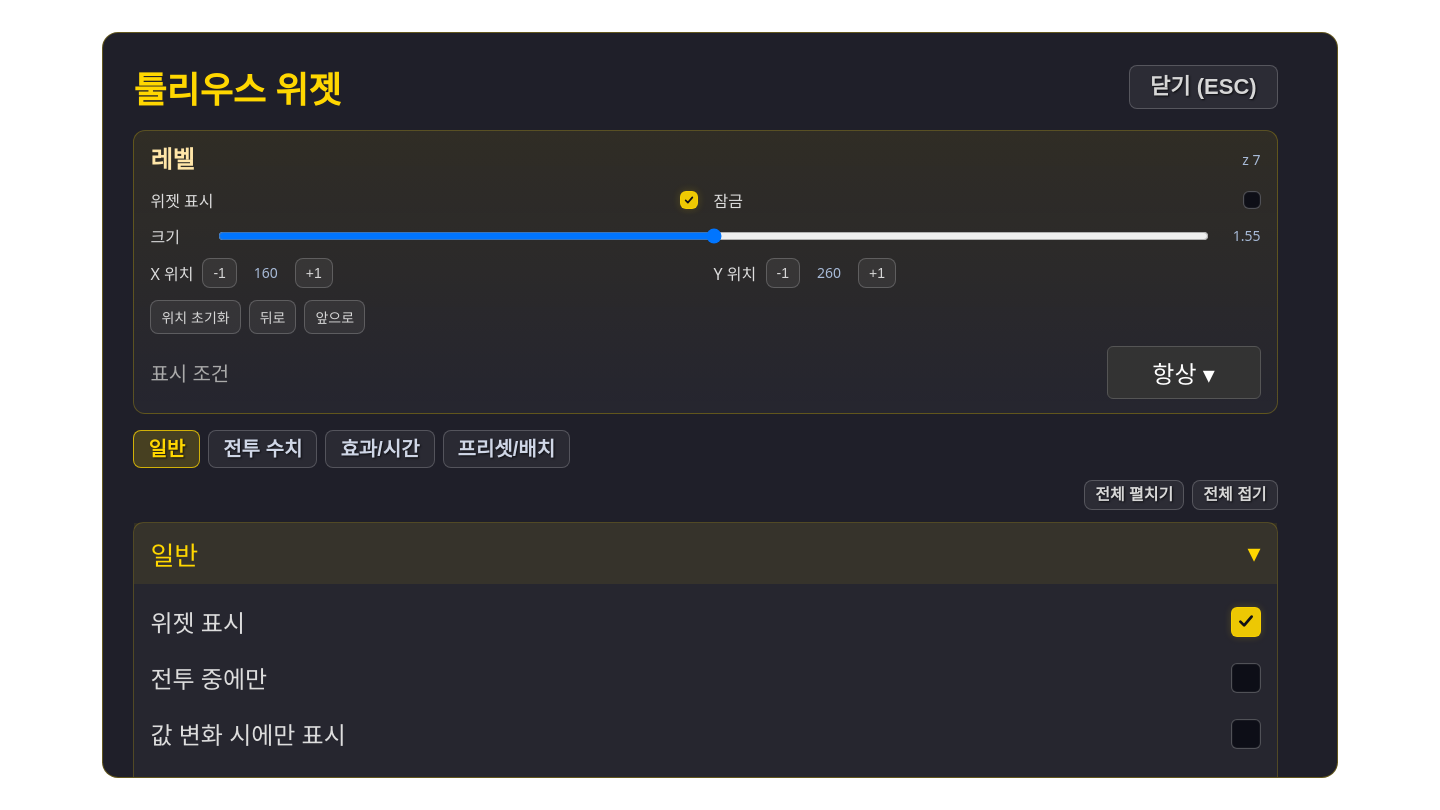
Test case: SettingsPanel › uses the selected item layout prop for live quick-edit values and wires size/lock callbacks
Set the slider labelled "크기 1.55" to "1.7": (799, 236) x1=218 y1=228 x2=1209 y2=244
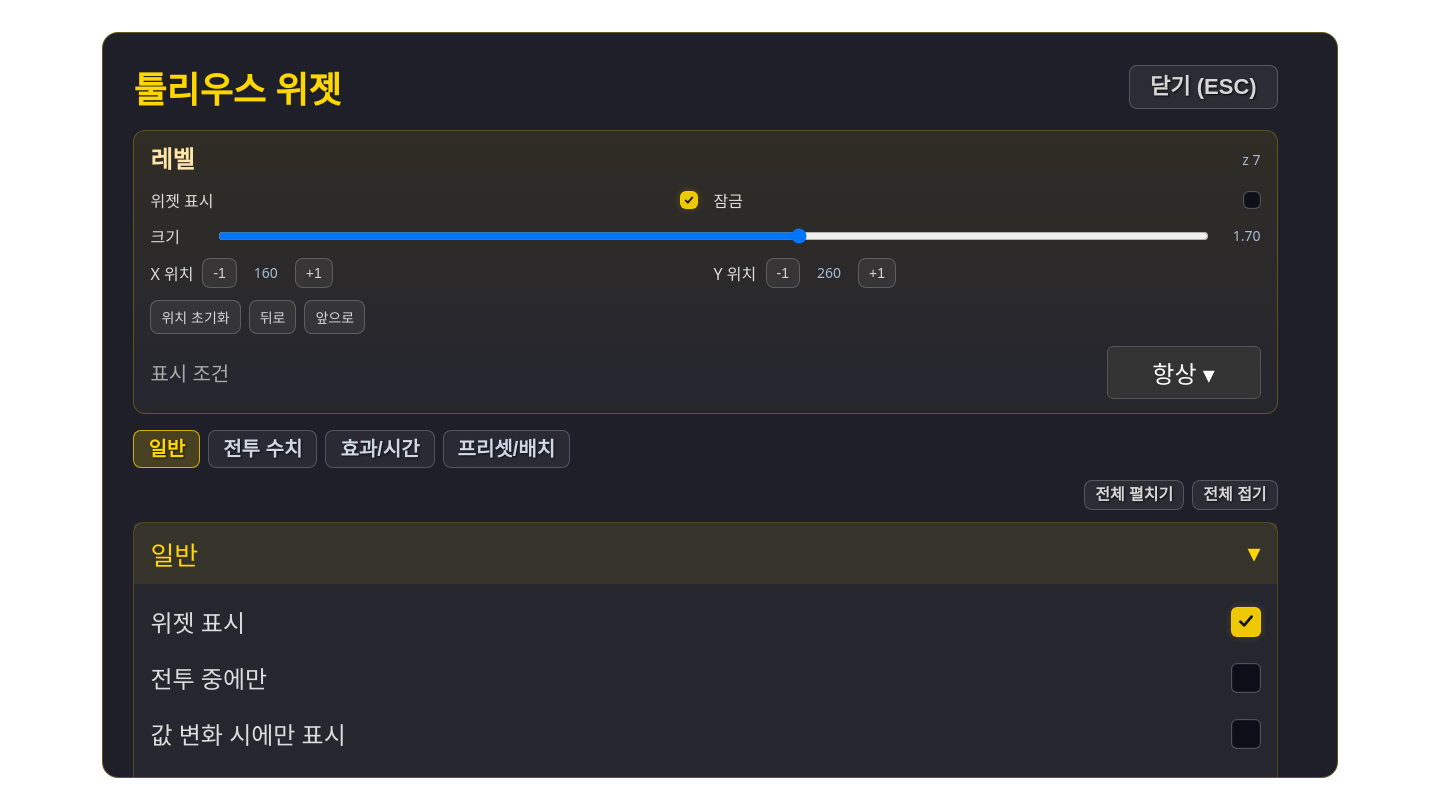
Click the checkbox labelled "잠금": (1252, 200) x1=1243 y1=190 x2=1261 y2=208
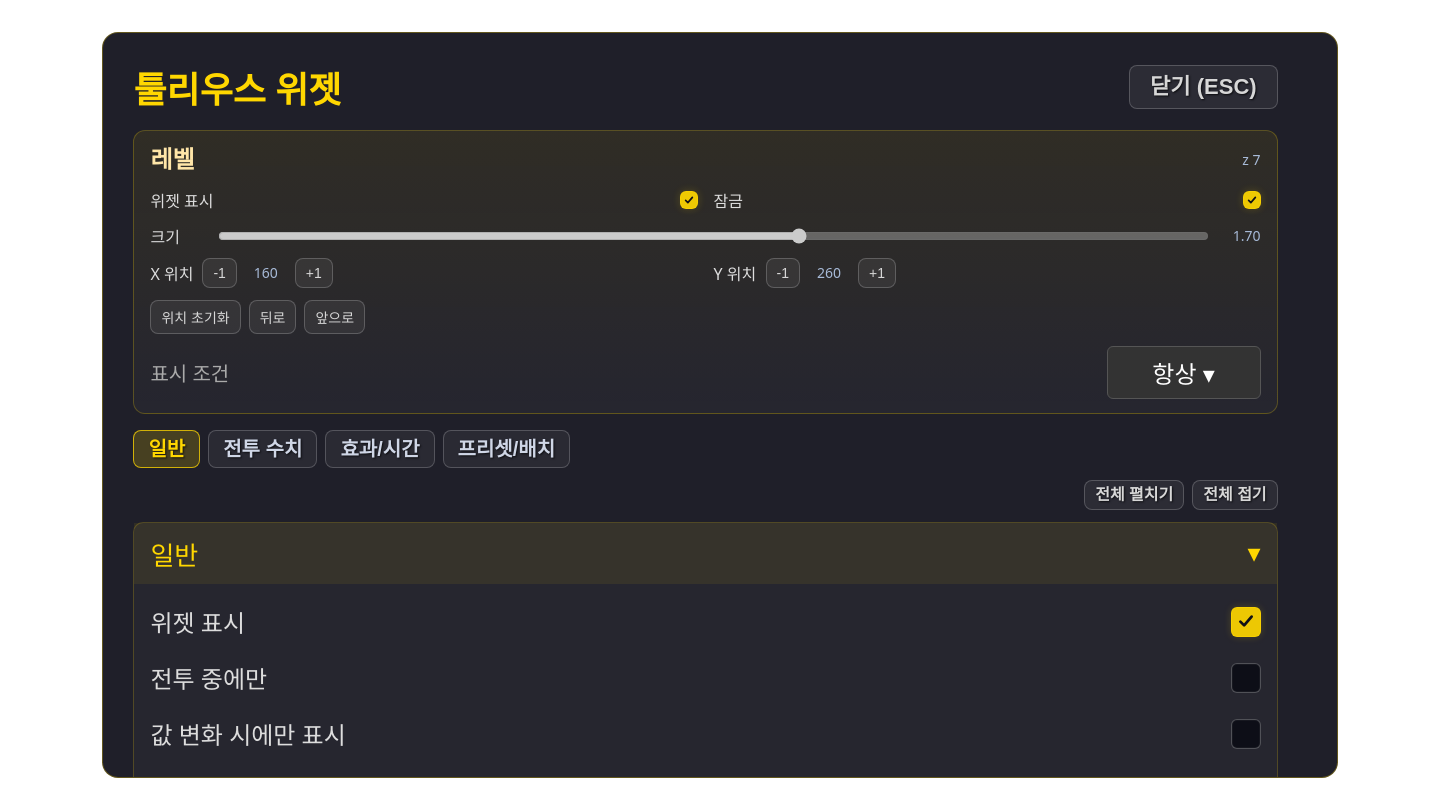
Result: the checkbox labelled "잠금" is checked at x1=1243 y1=190 x2=1261 y2=208
Result: the slider labelled "크기 1.70" is disabled at x1=218 y1=228 x2=1209 y2=244
